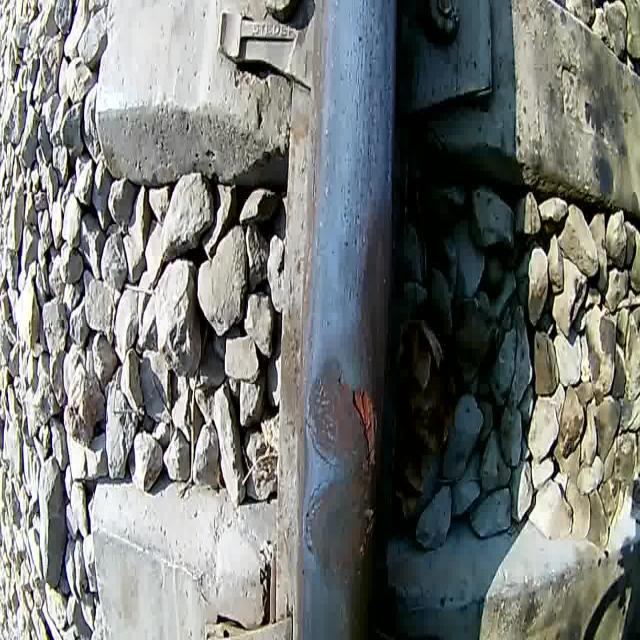Cracks: (301, 374, 342, 476), (297, 470, 336, 560)
Spallings: (349, 380, 381, 474)
Squats: (296, 347, 386, 626)
